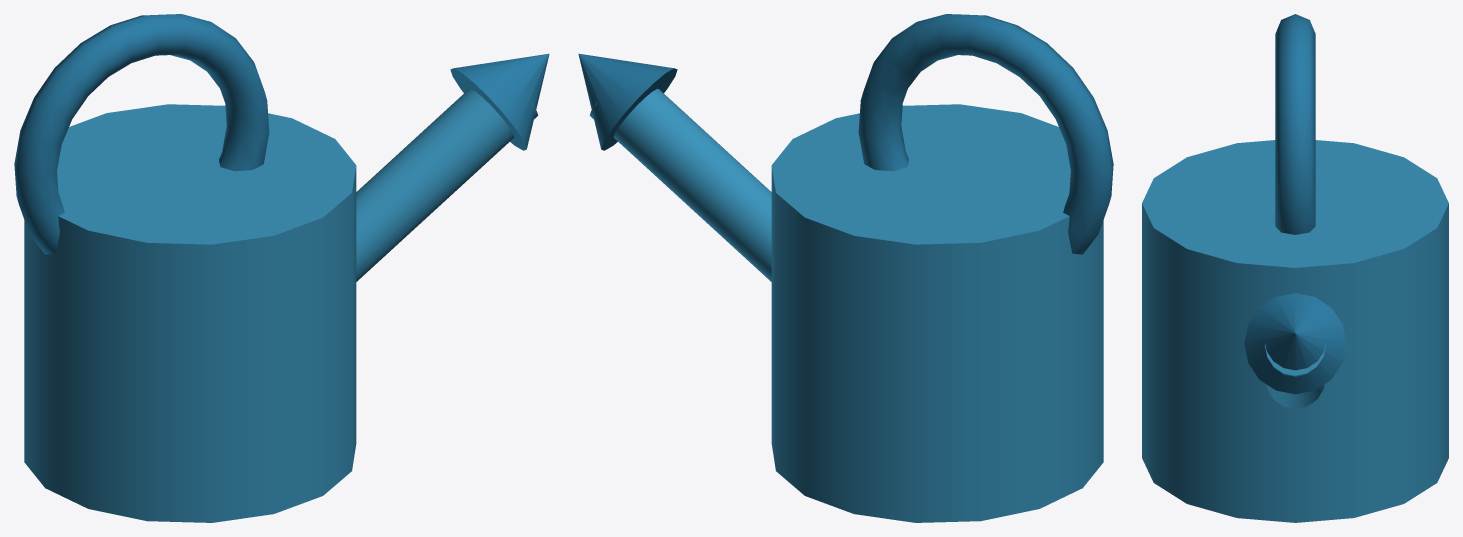
Rendered from wateringCan.glb.
3 views of the same model, side by side, from view 1: azimuth 30°, elevation 25°; view 2: azimuth 150°, elevation 25°; view 3: azimuth 270°, elevation 25° (orthographic). The views are drawn at different scales.
Visible parts, largest first — view 1: farm_wateringCan; view 2: farm_wateringCan; view 3: farm_wateringCan.
Part boxes in pixels (x1=…): farm_wateringCan: x1=14, y1=14, x2=549, y2=522; farm_wateringCan: x1=578, y1=14, x2=1113, y2=522; farm_wateringCan: x1=1142, y1=14, x2=1448, y2=522.
Size of the model in its own units: 1.1 by 0.8841 by 0.6.
